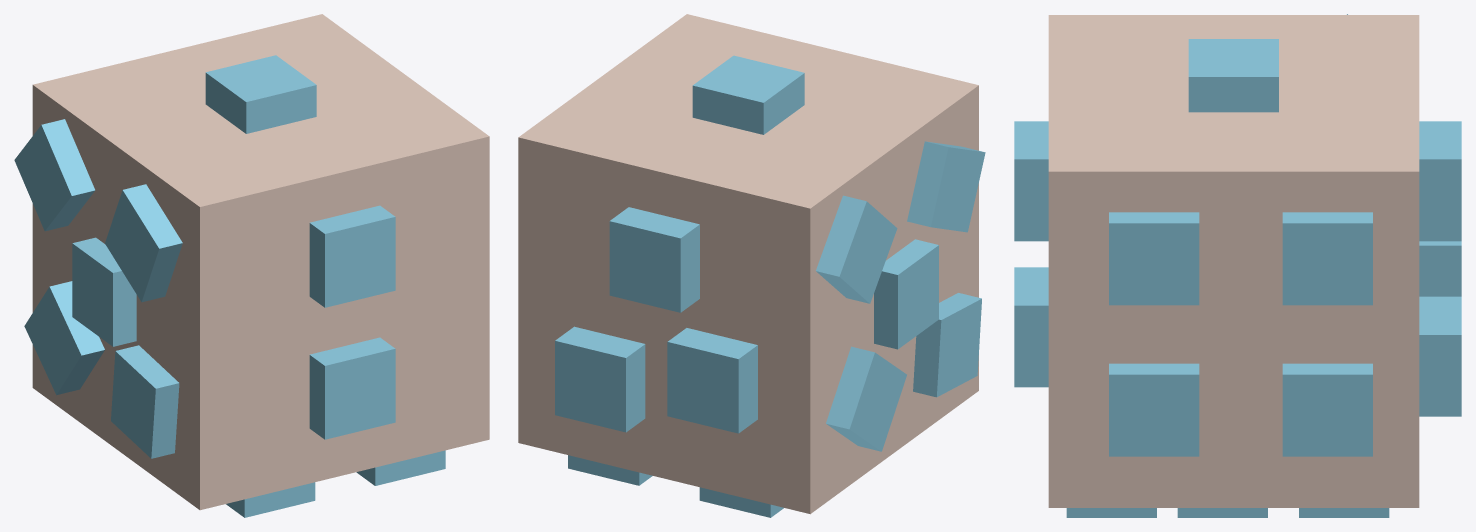
The picture shows the model from 3 angles, left to right: view 1: azimuth 30°, elevation 25°; view 2: azimuth 150°, elevation 25°; view 3: azimuth 270°, elevation 25°; orthographic projection. The views are drawn at different scales.
Visible parts, largest first — view 1: Cube; view 2: Cube; view 3: Cube.
Part boxes in pixels (x1=…): Cube: x1=14, y1=14, x2=489, y2=517; Cube: x1=518, y1=14, x2=985, y2=517; Cube: x1=1014, y1=14, x2=1461, y2=517.
Bounding box in the file's own units: 2.3 × 2.39 × 2.41.
